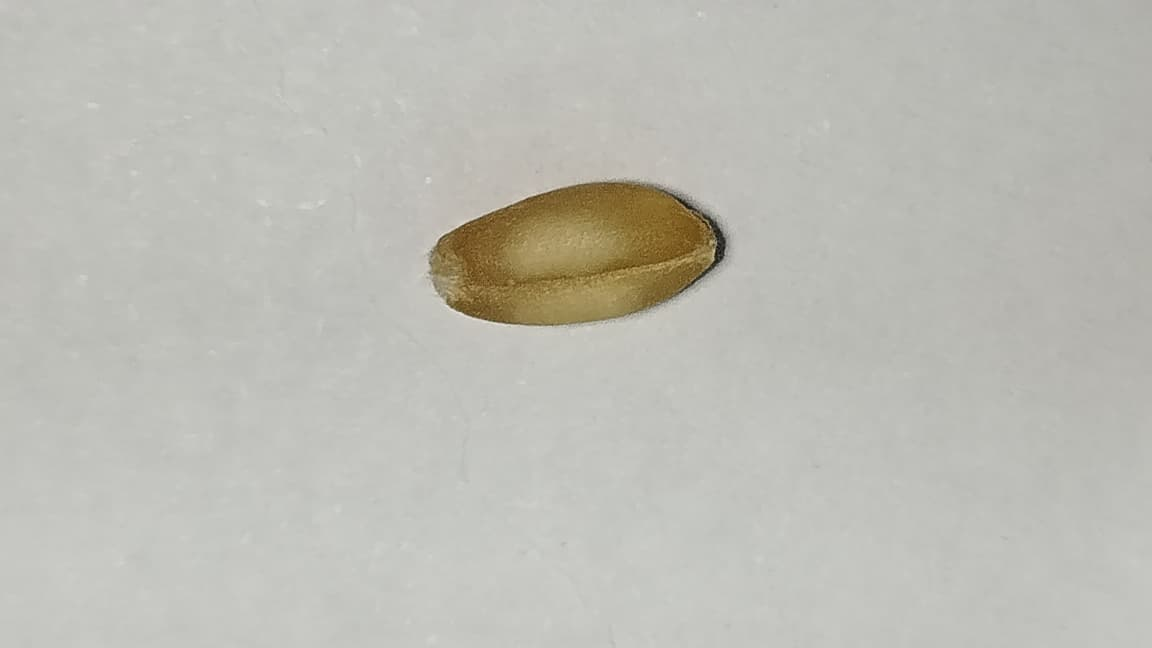healthy: (427, 180, 727, 329)
